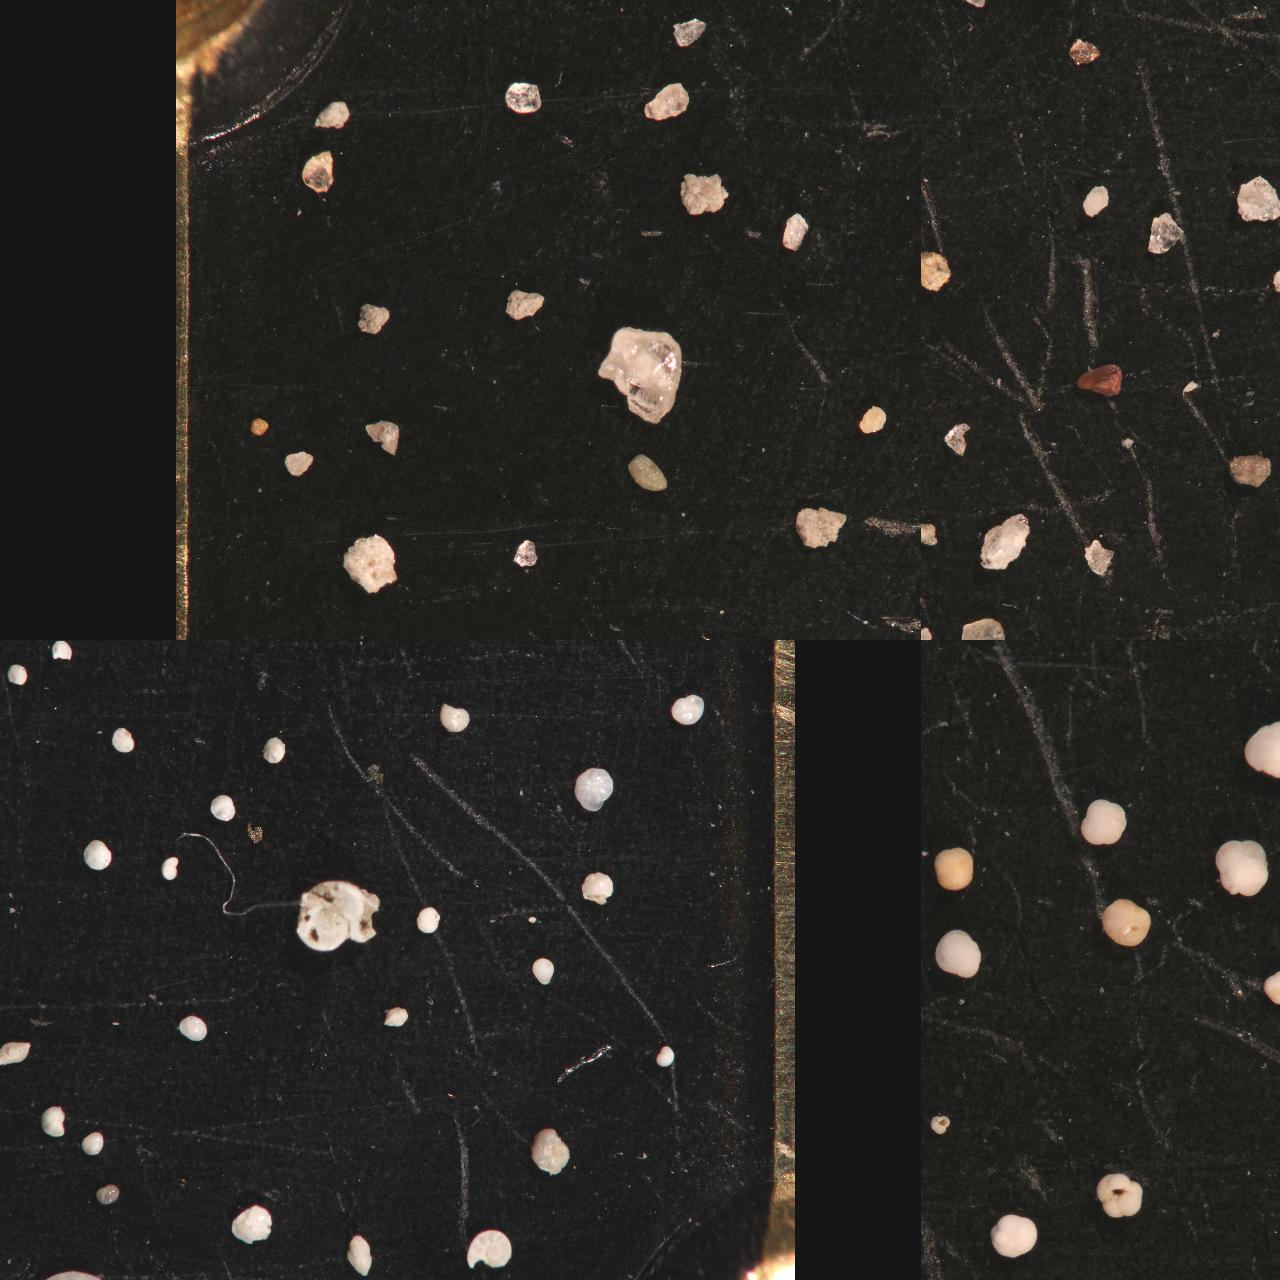Sediment: (595, 325, 682, 423), (341, 531, 397, 593), (978, 511, 1030, 572), (791, 505, 849, 547), (679, 170, 729, 216), (1234, 172, 1280, 222), (641, 80, 688, 121), (626, 451, 670, 493), (1075, 362, 1123, 399), (1148, 211, 1183, 254), (1228, 452, 1272, 488), (300, 149, 334, 193), (921, 0, 986, 23), (504, 286, 545, 320), (363, 416, 399, 454), (668, 14, 706, 48), (505, 80, 543, 114), (921, 248, 951, 292), (313, 96, 349, 128), (1082, 538, 1112, 576), (779, 212, 808, 252), (354, 302, 389, 334), (960, 615, 1005, 640), (1082, 182, 1110, 216), (942, 420, 971, 454), (921, 90, 942, 135), (1068, 36, 1099, 64), (858, 404, 886, 434), (512, 535, 538, 566), (921, 348, 942, 384), (284, 449, 312, 476), (1092, 0, 1126, 21), (1171, 0, 1210, 18), (921, 557, 937, 593), (921, 472, 939, 503), (927, 0, 956, 18), (921, 121, 937, 152), (250, 416, 270, 438), (1203, 0, 1227, 18), (921, 522, 938, 546), (1180, 377, 1199, 399), (493, 0, 526, 9), (921, 0, 937, 20), (921, 624, 934, 640), (921, 0, 930, 11)
calcareous: (295, 879, 381, 951), (294, 640, 387, 694), (529, 1123, 571, 1177), (465, 1227, 513, 1271), (230, 1203, 274, 1244), (574, 765, 614, 810), (0, 723, 23, 779), (670, 692, 703, 726), (82, 836, 113, 872), (347, 1232, 372, 1276), (580, 870, 612, 904), (440, 700, 470, 731), (0, 1039, 33, 1065), (177, 1013, 206, 1041), (381, 1002, 409, 1029), (41, 1103, 64, 1135), (210, 794, 237, 821), (389, 640, 430, 658), (261, 734, 285, 764), (415, 906, 438, 934), (531, 956, 553, 986), (111, 726, 135, 753), (236, 640, 268, 659), (157, 640, 190, 659), (95, 1182, 120, 1206), (81, 1130, 103, 1156), (159, 855, 181, 881), (64, 640, 97, 656), (129, 640, 163, 655), (241, 640, 272, 656), (8, 661, 26, 687), (320, 640, 352, 654), (655, 1043, 674, 1067), (52, 640, 72, 661), (493, 640, 520, 655), (14, 640, 38, 654), (712, 640, 735, 654), (109, 640, 139, 651), (475, 640, 499, 653), (177, 640, 202, 653), (118, 640, 144, 652), (406, 640, 429, 653), (481, 640, 505, 652), (513, 640, 536, 653), (232, 640, 256, 652), (274, 640, 297, 652), (313, 640, 333, 653), (554, 640, 576, 652), (0, 667, 11, 690), (0, 846, 11, 870), (0, 1099, 7, 1133), (0, 954, 11, 976), (0, 640, 13, 656), (229, 640, 246, 651), (0, 640, 13, 653), (0, 640, 11, 651), (0, 640, 7, 652), (0, 640, 8, 649)
planktic: (1214, 837, 1269, 899), (1101, 896, 1151, 947), (988, 1210, 1039, 1259), (934, 927, 982, 979), (1095, 1171, 1144, 1219), (1080, 795, 1126, 845), (1242, 717, 1280, 779), (932, 844, 974, 892), (969, 640, 1017, 666), (921, 1019, 947, 1064), (921, 1036, 942, 1082), (921, 640, 942, 685), (921, 924, 940, 966), (921, 1091, 939, 1135), (1262, 967, 1280, 1005), (921, 938, 940, 972), (928, 1110, 952, 1136), (921, 796, 935, 826), (921, 640, 941, 661)
